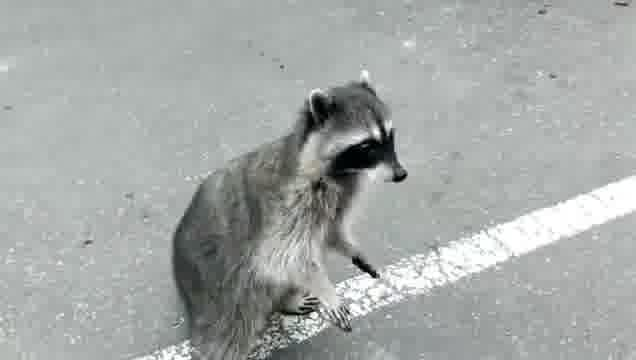raccoon: (167, 64, 411, 360)
